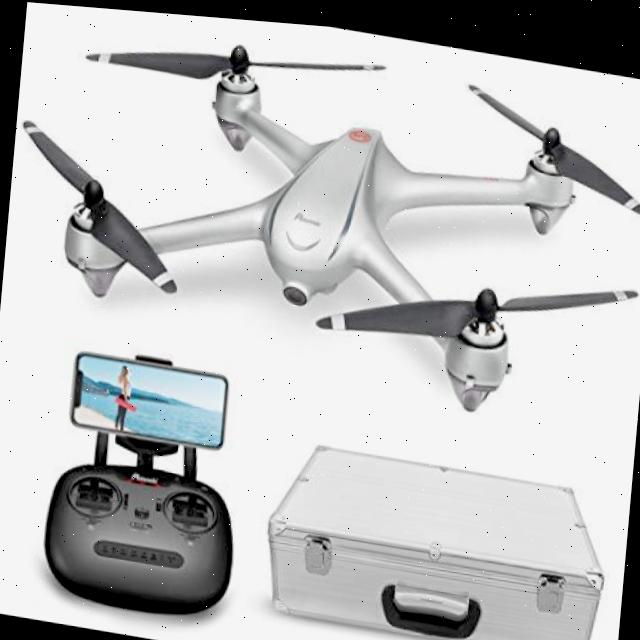drone: (0, 0, 640, 437)
